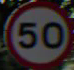Speed limit: (3, 3, 68, 60)
